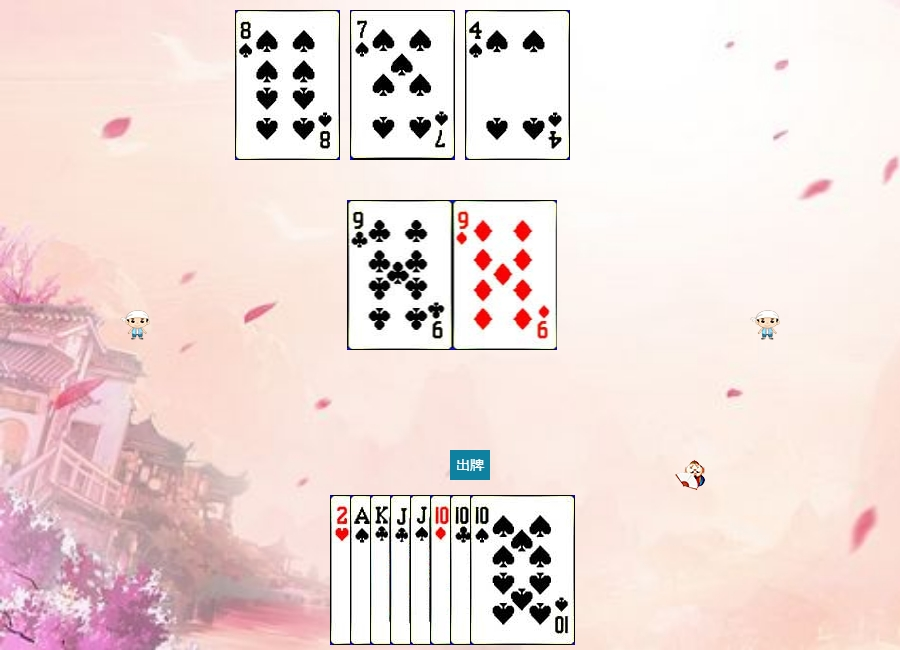10~1: (430, 495, 535, 645)
10~2: (450, 495, 555, 645)
10~4: (470, 495, 575, 645)
11~2: (390, 495, 495, 645)
11~4: (410, 495, 515, 645)
13~2: (370, 495, 475, 645)
14~4: (350, 495, 455, 645)
15~3: (330, 495, 435, 645)
4~4: (465, 10, 570, 160)
7~4: (350, 10, 455, 160)
8~4: (235, 10, 340, 160)
9~1: (453, 200, 558, 350)
9~2: (348, 200, 453, 350)
